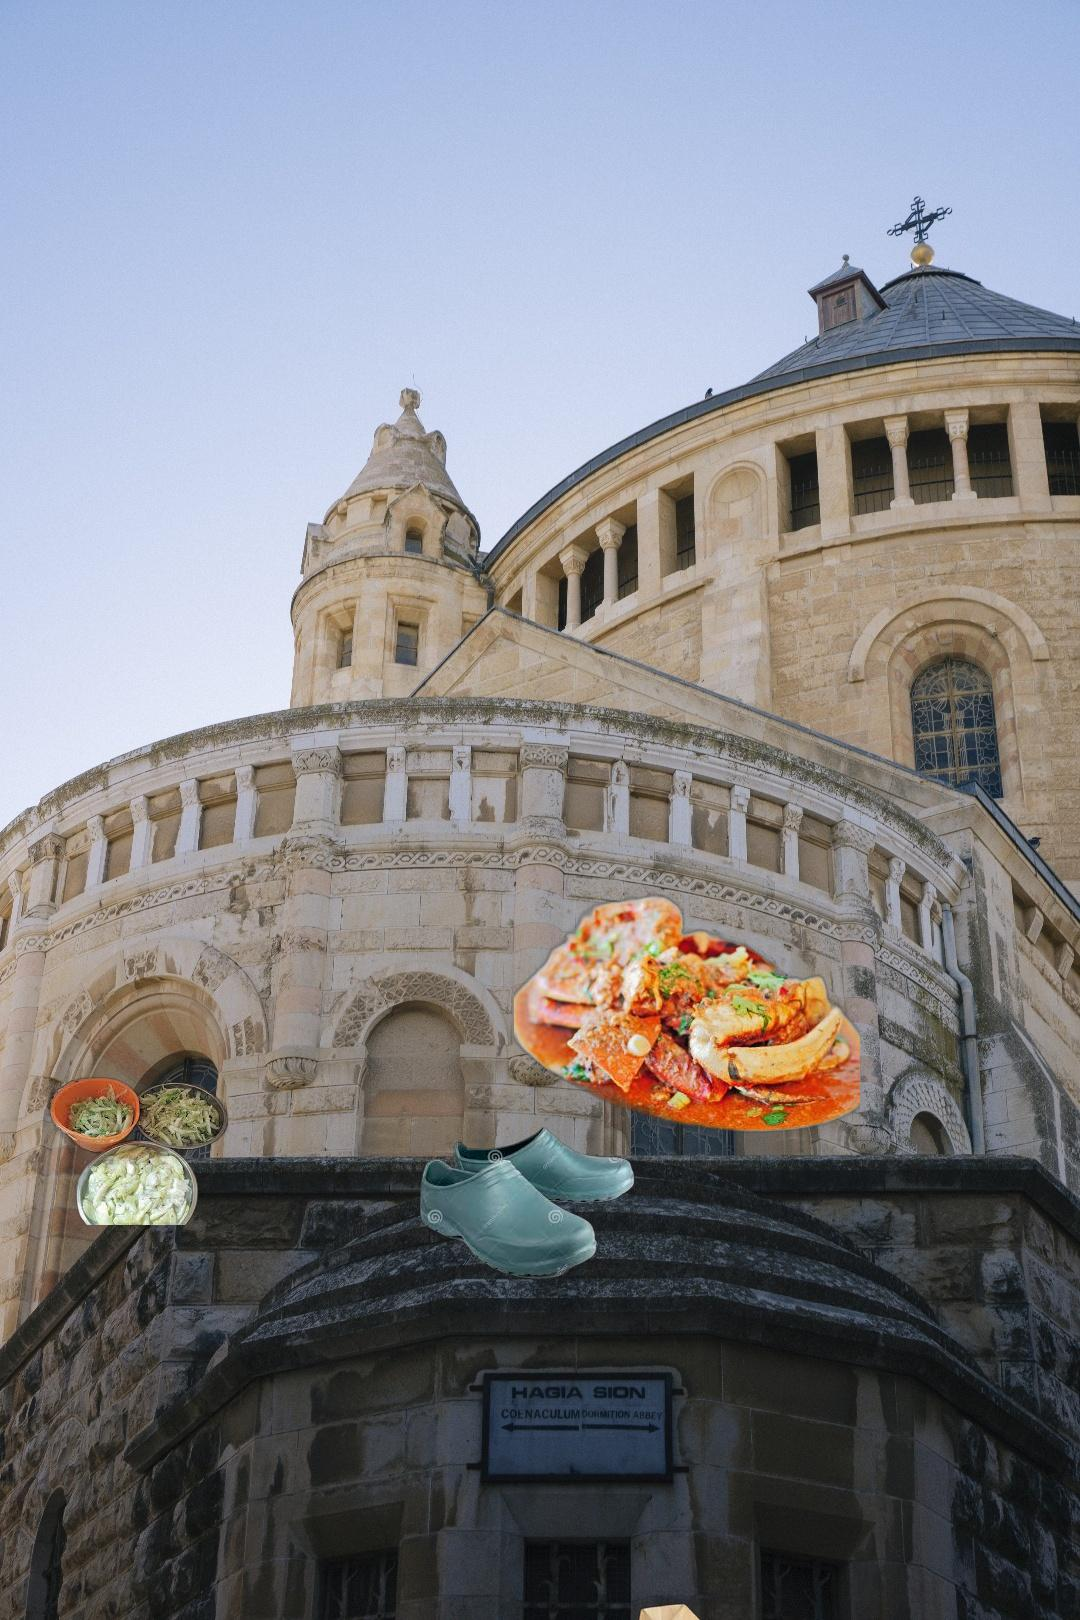biological: (513, 888, 859, 1185), (43, 1075, 236, 1225)
paper-bag: (622, 1601, 720, 1620)
shoes: (417, 1125, 636, 1282)
